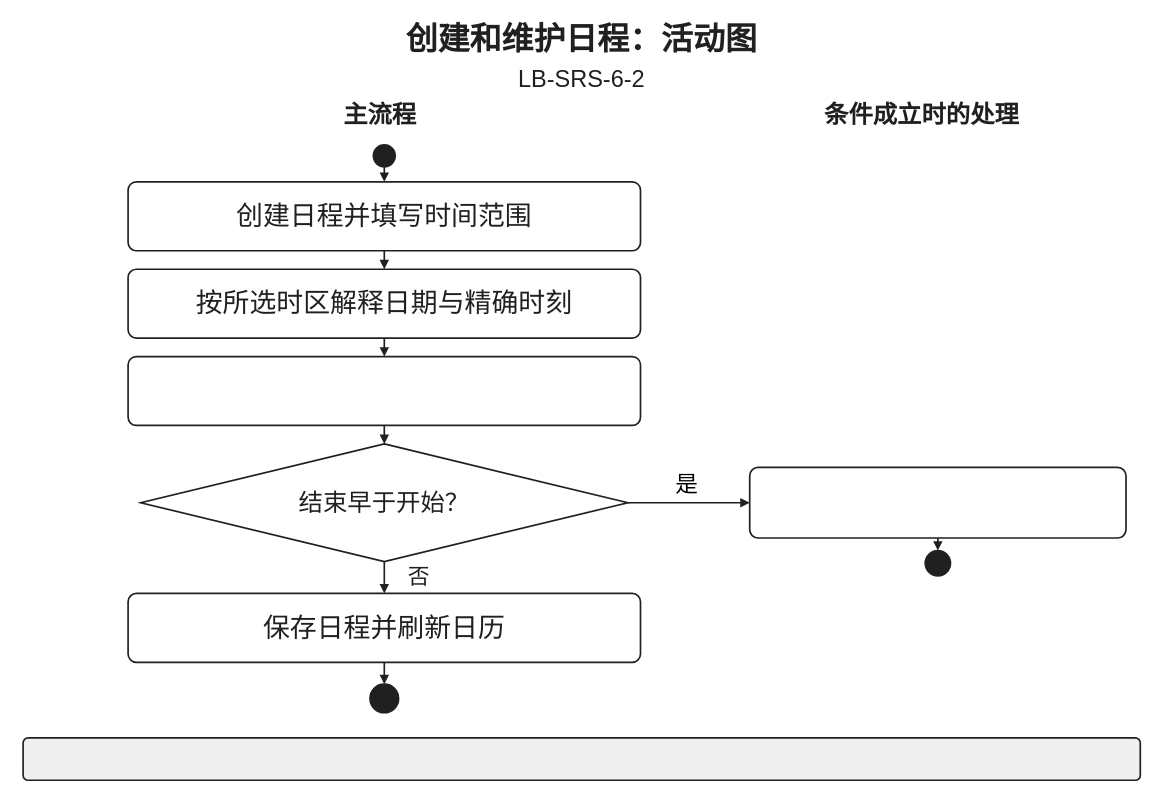
Image size: 1163x795. Some labels were removed from this diagram. The shapes that lost their labels are listed below. From the top down, each one's box as (x1, y1, x2, y2) in pixels, then its label:
(127, 355, 641, 426): 校验结束时间不早于开始
(748, 466, 1126, 538): 拒绝该时间范围，保留原有效值
(22, 737, 1141, 781): 约束：时区改变时明确展示转换规则，不静默改写业务日期。
